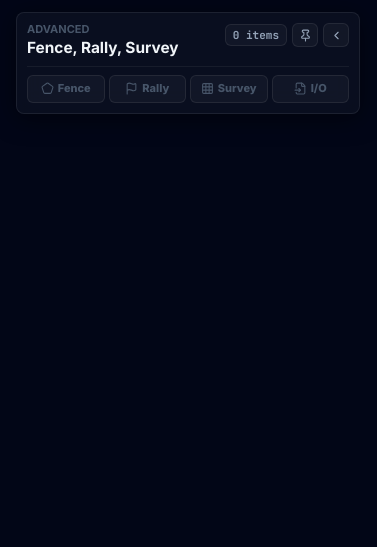
Test: AdvancedMissionPanel › opens an editable Rally form from Current position without saving immediately
What coordinates should you click on to do the following:
click the tab "Rally"
I would click on:
 (147, 89)
Its box is x1=108 y1=75 x2=186 y2=103.
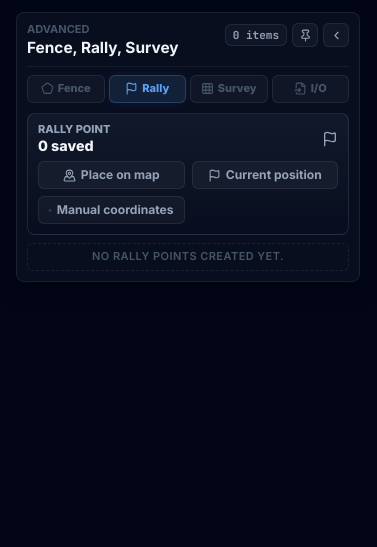
What coordinates should you click on to do the following:
click the button "Current position"
I would click on:
 (265, 175)
Its box is x1=192 y1=161 x2=338 y2=189.
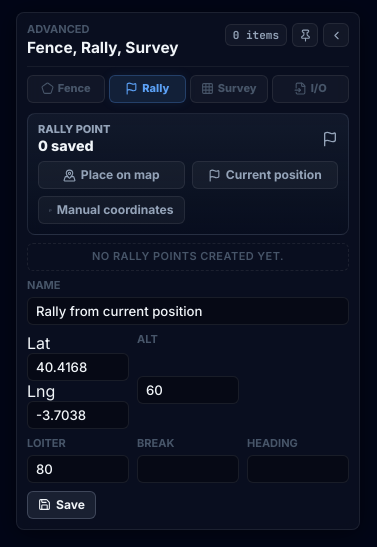
expect the text "save" is shown: met, box x1=48 y1=137 x2=94 y2=154
expect the field with class "mp-input" holds "Rally from current position": met, box x1=27 y1=297 x2=349 y2=325
